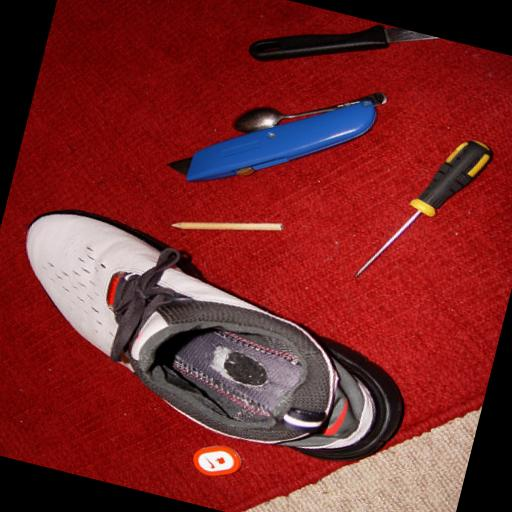screwdriver: (354, 120, 496, 302)
